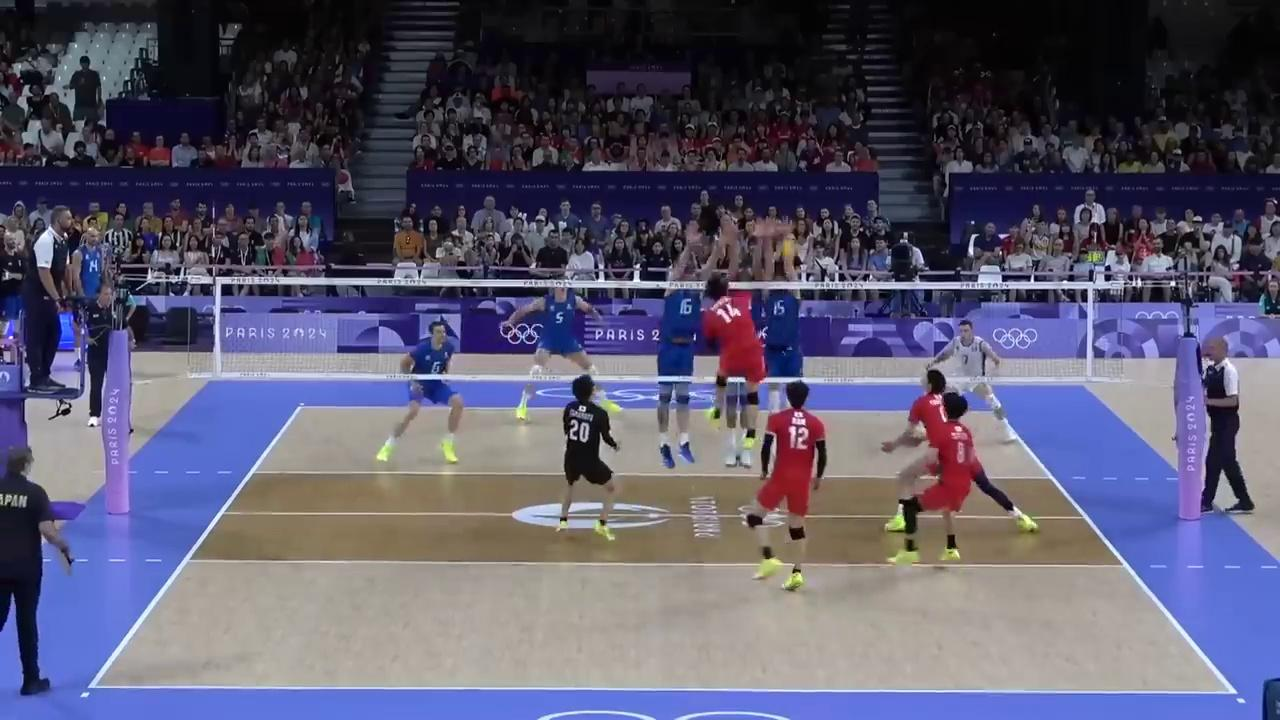ball: (780, 238, 801, 258)
